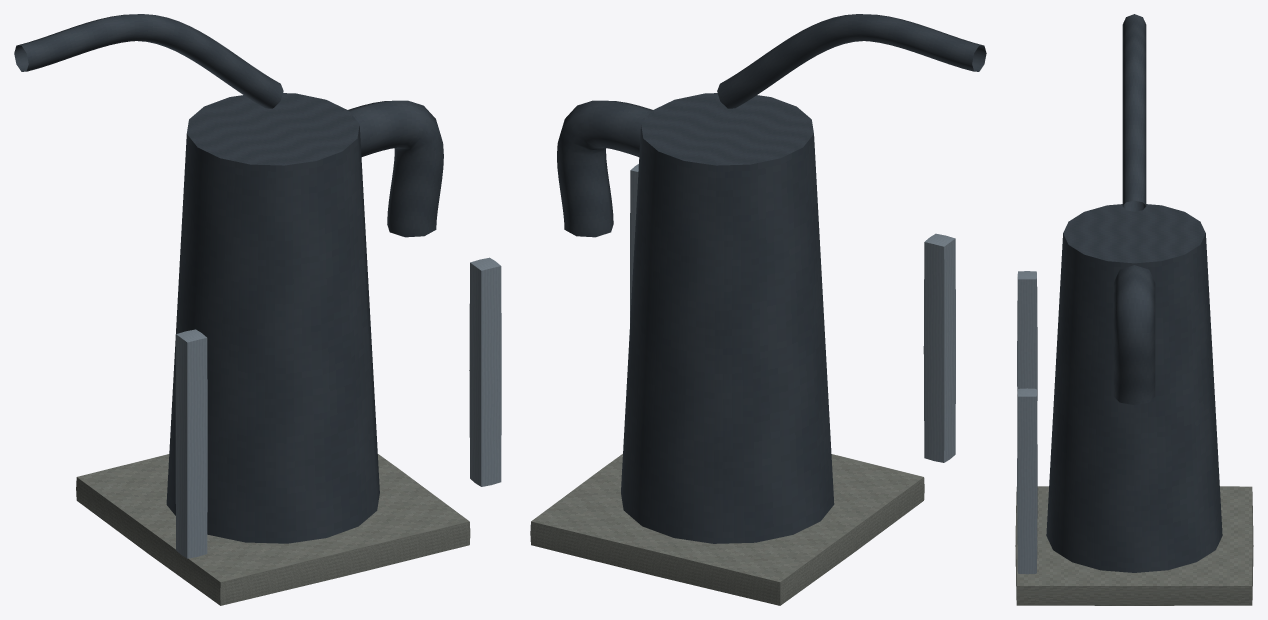
3 renders of one model, left to right at view 1: azimuth 30°, elevation 25°; view 2: azimuth 150°, elevation 25°; view 3: azimuth 270°, elevation 25°, orthographic. The views are drawn at different scales.
Parts seen in each view (by area): view 1: iron.0, stone.3, iron.2, iron.1, steel.5, steel.4; view 2: iron.0, stone.3, iron.2, iron.1, steel.4, steel.5; view 3: iron.0, stone.3, iron.1, iron.2, steel.5, steel.4.
Part boxes in pixels (x1,y1,x2,y2): iron.0: (166, 93, 379, 543); stone.3: (76, 454, 470, 605); iron.2: (14, 14, 283, 108); iron.1: (348, 100, 443, 237); steel.5: (469, 257, 501, 486); steel.4: (175, 329, 207, 558); iron.0: (621, 93, 834, 543); stone.3: (530, 454, 924, 605); iron.2: (717, 14, 986, 108); iron.1: (557, 100, 652, 237); steel.4: (923, 233, 955, 462); steel.5: (630, 164, 638, 322); iron.0: (1046, 204, 1222, 572); stone.3: (1015, 486, 1253, 605); iron.1: (1113, 265, 1155, 405); iron.2: (1122, 14, 1146, 211); steel.5: (1017, 388, 1037, 574); steel.4: (1017, 271, 1037, 417).
Bounding box in the file's own units: 0.6672 × 0.8294 × 0.4.
Materials: 3 (3 with a texture image).
